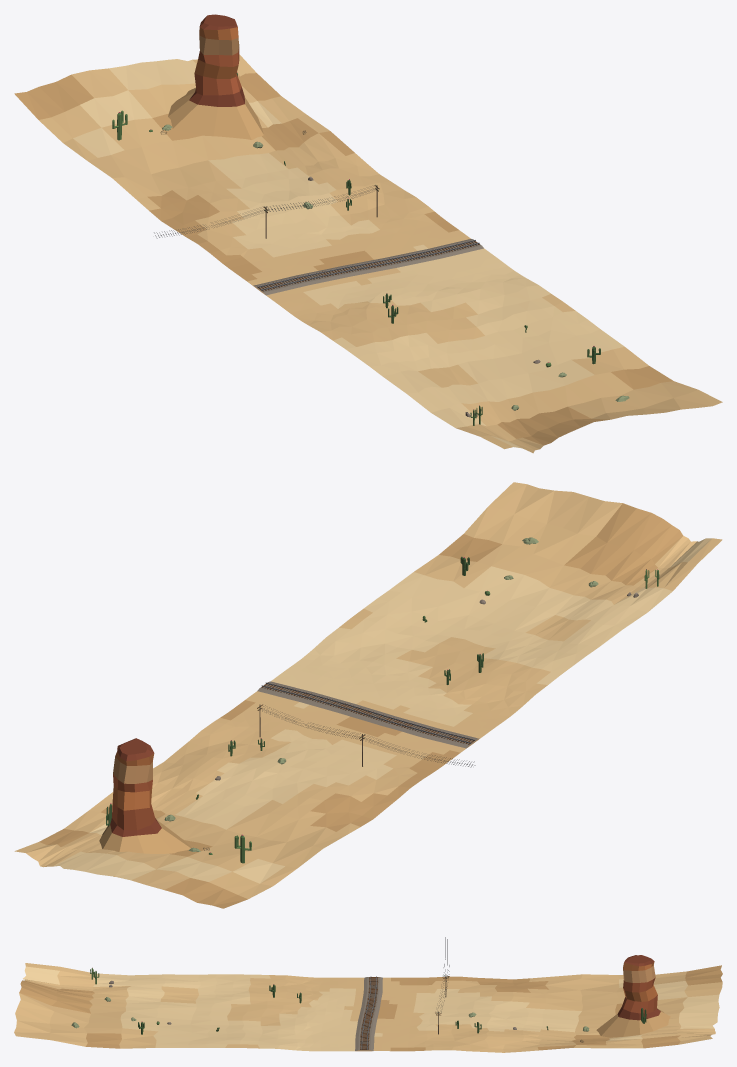
The model's file is SM_FG_Chunk_SBendR_A.fbx.
The picture shows the model from 3 angles, top to bottom: view 1: azimuth 30°, elevation 25°; view 2: azimuth 150°, elevation 25°; view 3: azimuth 270°, elevation 25°; orthographic projection. The views are drawn at different scales.
Visible parts, largest first — view 1: FG_Chunk_SBendR_A_Ground, FG_Chunk_SBendR_A_SceneryMid, FG_Chunk_SBendR_A_Track, FG_Chunk_SBendR_A_SceneryNear; view 2: FG_Chunk_SBendR_A_Ground, FG_Chunk_SBendR_A_SceneryMid, FG_Chunk_SBendR_A_Track, FG_Chunk_SBendR_A_SceneryNear; view 3: FG_Chunk_SBendR_A_Ground, FG_Chunk_SBendR_A_SceneryMid, FG_Chunk_SBendR_A_Track, FG_Chunk_SBendR_A_SceneryNear.
Part boxes in pixels (bbox=[...]): FG_Chunk_SBendR_A_Ground: bbox=[14, 54, 722, 453]; FG_Chunk_SBendR_A_SceneryMid: bbox=[168, 14, 263, 139]; FG_Chunk_SBendR_A_Track: bbox=[253, 239, 483, 295]; FG_Chunk_SBendR_A_SceneryNear: bbox=[112, 72, 629, 425]; FG_Chunk_SBendR_A_Ground: bbox=[14, 482, 722, 908]; FG_Chunk_SBendR_A_SceneryMid: bbox=[99, 738, 191, 876]; FG_Chunk_SBendR_A_Track: bbox=[257, 681, 479, 748]; FG_Chunk_SBendR_A_SceneryNear: bbox=[106, 537, 659, 863]; FG_Chunk_SBendR_A_Ground: bbox=[14, 963, 722, 1052]; FG_Chunk_SBendR_A_SceneryMid: bbox=[596, 955, 670, 1037]; FG_Chunk_SBendR_A_Track: bbox=[355, 976, 382, 1050]; FG_Chunk_SBendR_A_SceneryNear: bbox=[71, 937, 646, 1042].
Size of the model in its own units: 6240 by 20343 by 2256.
